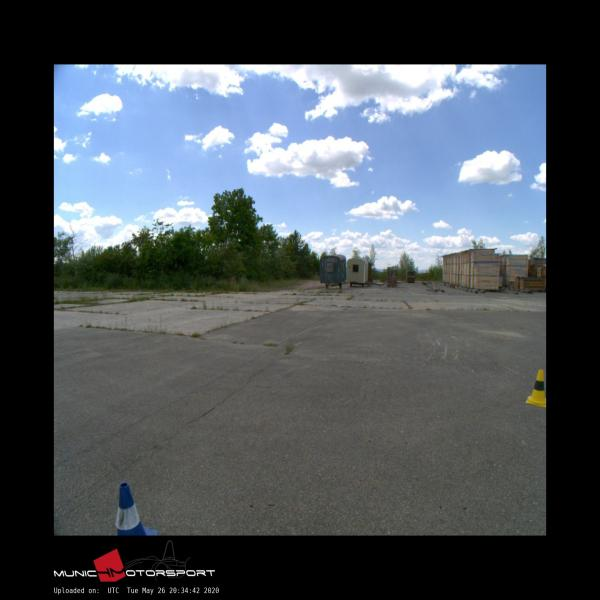blue_cone: (114, 482, 158, 535)
yellow_cone: (526, 369, 546, 406)
